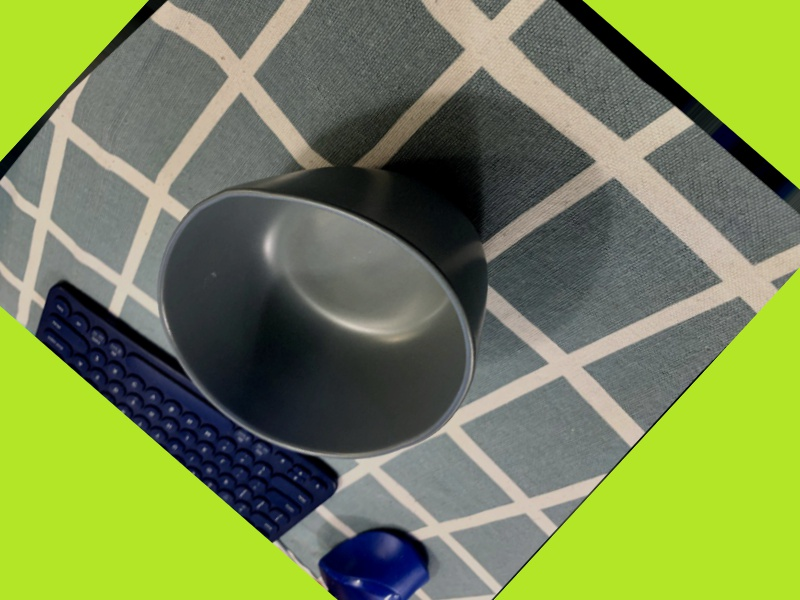bowl_big: (101, 85, 578, 530)
